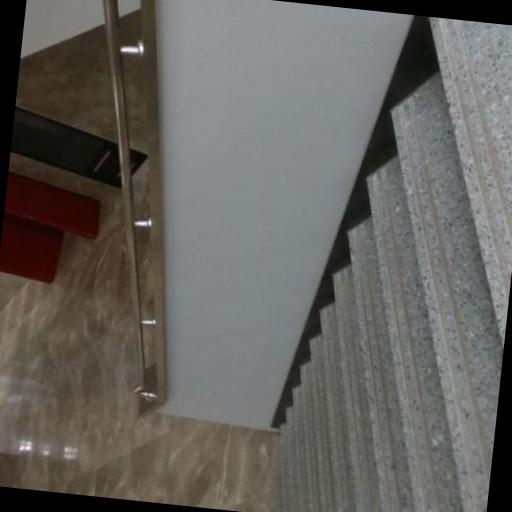stairs: (276, 17, 511, 511)
